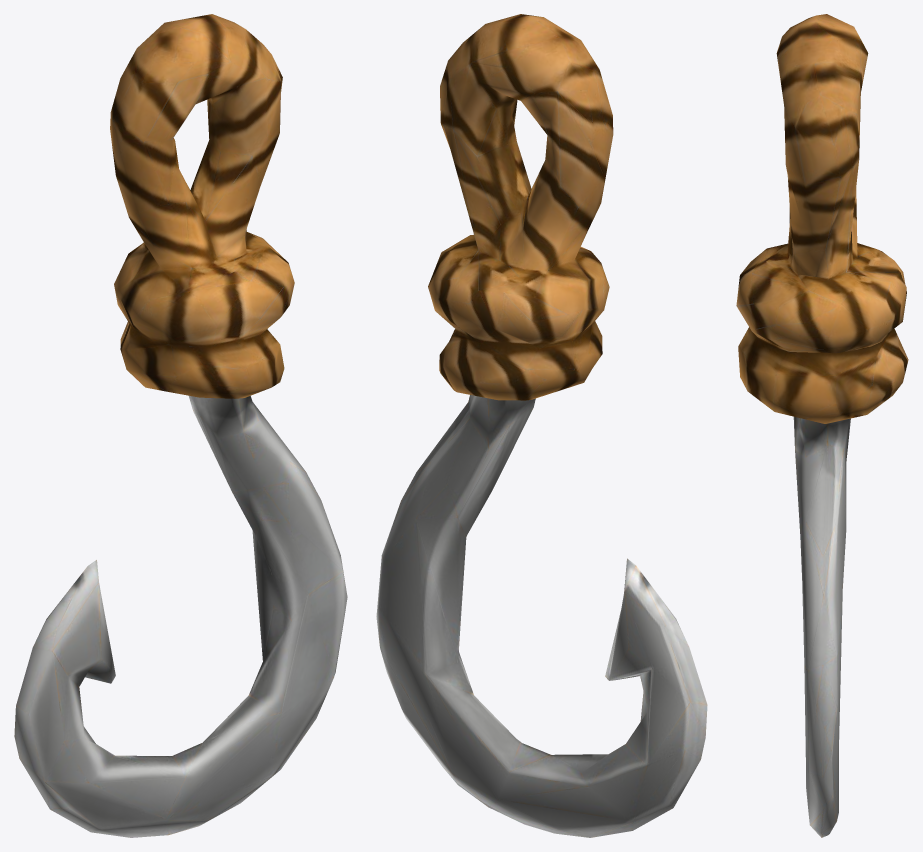
The model's file is hook.glb.
3 views of the same model, side by side, from view 1: azimuth 30°, elevation 25°; view 2: azimuth 150°, elevation 25°; view 3: azimuth 270°, elevation 25° (orthographic).
Size of the model in its own units: 0.8229 by 1.93 by 0.3721.
1 material, 1 textured.
